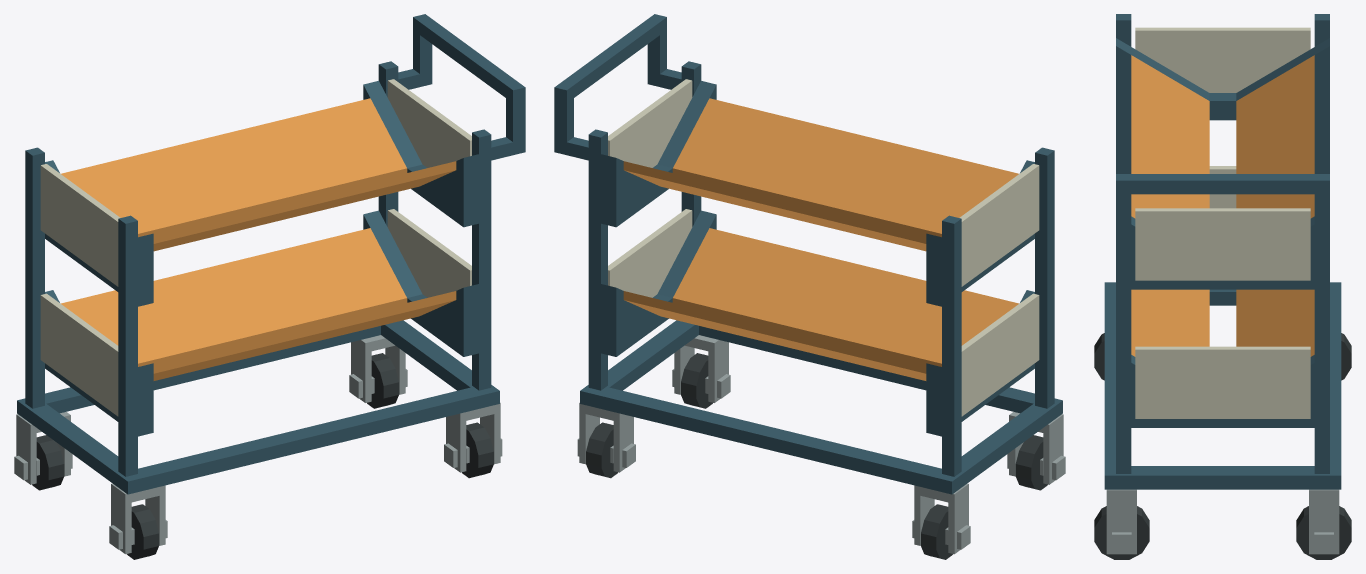
3 views of the same model, side by side, from view 1: azimuth 30°, elevation 25°; view 2: azimuth 150°, elevation 25°; view 3: azimuth 270°, elevation 25° (orthographic). The views are drawn at different scales.
Parts seen in each view (by area): view 1: Tier_2_BackContinuousInclinedRail, Tier_1_BackContinuousInclinedRail, LowOpenPerimeterFrame, Tier_2_LeftIndependentLowStop, Tier_1_LeftIndependentLowStop, ContinuousSingleEndUHandle, FullPost_Left_Front, Tier_2_FrontContinuousInclinedRail, Tier_1_FrontContinuousInclinedRail, FullPost_Left_Back, Tier_1_RightVProfileEndSupport, Tier_2_RightVProfileEndSupport (+14 smaller); view 2: Tier_2_FrontContinuousInclinedRail, Tier_1_FrontContinuousInclinedRail, LowOpenPerimeterFrame, Tier_2_LeftIndependentLowStop, Tier_1_LeftIndependentLowStop, ContinuousSingleEndUHandle, FullPost_Left_Back, Tier_2_BackContinuousInclinedRail, Tier_1_BackContinuousInclinedRail, FullPost_Left_Front, Tier_1_RightVProfileEndSupport, Tier_2_RightVProfileEndSupport (+14 smaller); view 3: Tier_1_RightIndependentLowStop, Tier_2_RightIndependentLowStop, LowOpenPerimeterFrame, Tier_2_BackContinuousInclinedRail, Tier_2_FrontContinuousInclinedRail, Tier_2_LeftIndependentLowStop, ContinuousSingleEndUHandle, Tier_2_LeftVProfileEndSupport, Tier_1_BackContinuousInclinedRail, Tier_1_FrontContinuousInclinedRail, FullPost_Right_Back, FullPost_Right_Front (+13 smaller).
Boxes of the visible parts, <box> form: Tier_2_BackContinuousInclinedRail: <box>61,98,407,237</box>; Tier_1_BackContinuousInclinedRail: <box>61,228,407,366</box>; LowOpenPerimeterFrame: <box>17,320,499,494</box>; Tier_2_LeftIndependentLowStop: <box>40,164,120,286</box>; Tier_1_LeftIndependentLowStop: <box>40,293,118,416</box>; ContinuousSingleEndUHandle: <box>398,14,525,160</box>; FullPost_Left_Front: <box>118,215,137,476</box>; Tier_2_FrontContinuousInclinedRail: <box>153,161,456,251</box>; Tier_1_FrontContinuousInclinedRail: <box>153,291,456,380</box>; FullPost_Left_Back: <box>25,147,44,408</box>; Tier_1_RightVProfileEndSupport: <box>363,210,478,356</box>; Tier_2_RightVProfileEndSupport: <box>363,80,478,227</box>; Tier_2_FrontContinuousInclinedRail: <box>672,98,1018,237</box>; Tier_1_FrontContinuousInclinedRail: <box>672,228,1018,366</box>; LowOpenPerimeterFrame: <box>580,320,1062,494</box>; Tier_2_LeftIndependentLowStop: <box>959,164,1039,286</box>; Tier_1_LeftIndependentLowStop: <box>961,293,1039,416</box>; ContinuousSingleEndUHandle: <box>554,14,681,160</box>; FullPost_Left_Back: <box>942,215,961,476</box>; Tier_2_BackContinuousInclinedRail: <box>623,161,926,251</box>; Tier_1_BackContinuousInclinedRail: <box>623,291,926,380</box>; FullPost_Left_Front: <box>1035,147,1054,408</box>; Tier_1_RightVProfileEndSupport: <box>601,210,716,356</box>; Tier_2_RightVProfileEndSupport: <box>601,80,716,227</box>; Tier_1_RightIndependentLowStop: <box>1135,346,1310,418</box>; Tier_2_RightIndependentLowStop: <box>1135,208,1310,280</box>; LowOpenPerimeterFrame: <box>1104,282,1341,489</box>; Tier_2_BackContinuousInclinedRail: <box>1236,55,1314,218</box>; Tier_2_FrontContinuousInclinedRail: <box>1131,55,1209,218</box>; Tier_2_LeftIndependentLowStop: <box>1135,27,1310,92</box>; ContinuousSingleEndUHandle: <box>1116,174,1329,249</box>; Tier_2_LeftVProfileEndSupport: <box>1116,38,1329,120</box>; Tier_1_BackContinuousInclinedRail: <box>1236,289,1314,356</box>; Tier_1_FrontContinuousInclinedRail: <box>1131,289,1209,356</box>; FullPost_Right_Back: <box>1314,249,1329,473</box>; FullPost_Right_Front: <box>1116,249,1131,473</box>.
Size of the model in its own units: 1.32 by 1.16 by 0.6749.
